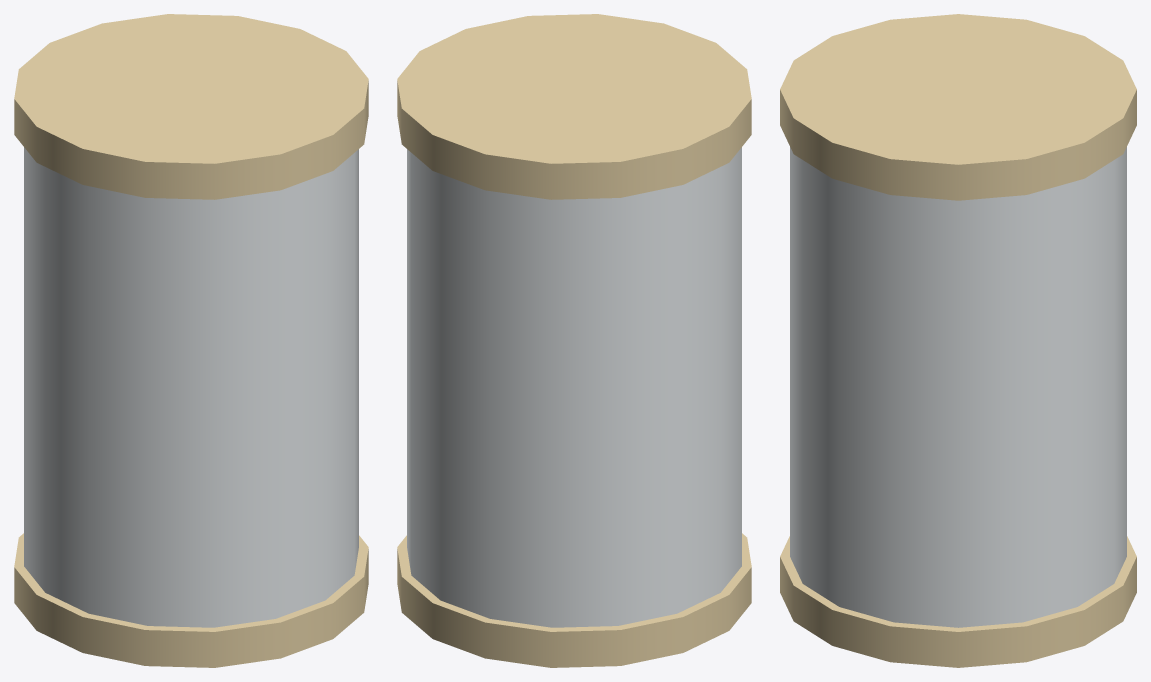
The model's file is SM_Decor_Lantern.fbx.
3 views of the same model, side by side, from view 1: azimuth 30°, elevation 25°; view 2: azimuth 150°, elevation 25°; view 3: azimuth 270°, elevation 25° (orthographic).
Visible parts, largest first — view 1: SM_Decor_Lantern; view 2: SM_Decor_Lantern; view 3: SM_Decor_Lantern.
Part boxes in pixels (bbox=[...]): SM_Decor_Lantern: bbox=[14, 14, 368, 667]; SM_Decor_Lantern: bbox=[397, 14, 751, 667]; SM_Decor_Lantern: bbox=[780, 14, 1136, 667].
Bounding box in the file's own units: 18 × 28 × 18.
